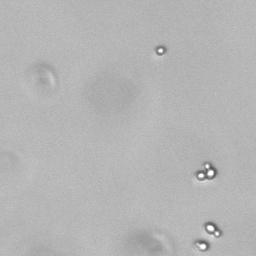buddying: (195, 160, 216, 181), (203, 221, 221, 237), (195, 240, 208, 251)
individual: (155, 45, 165, 55)
